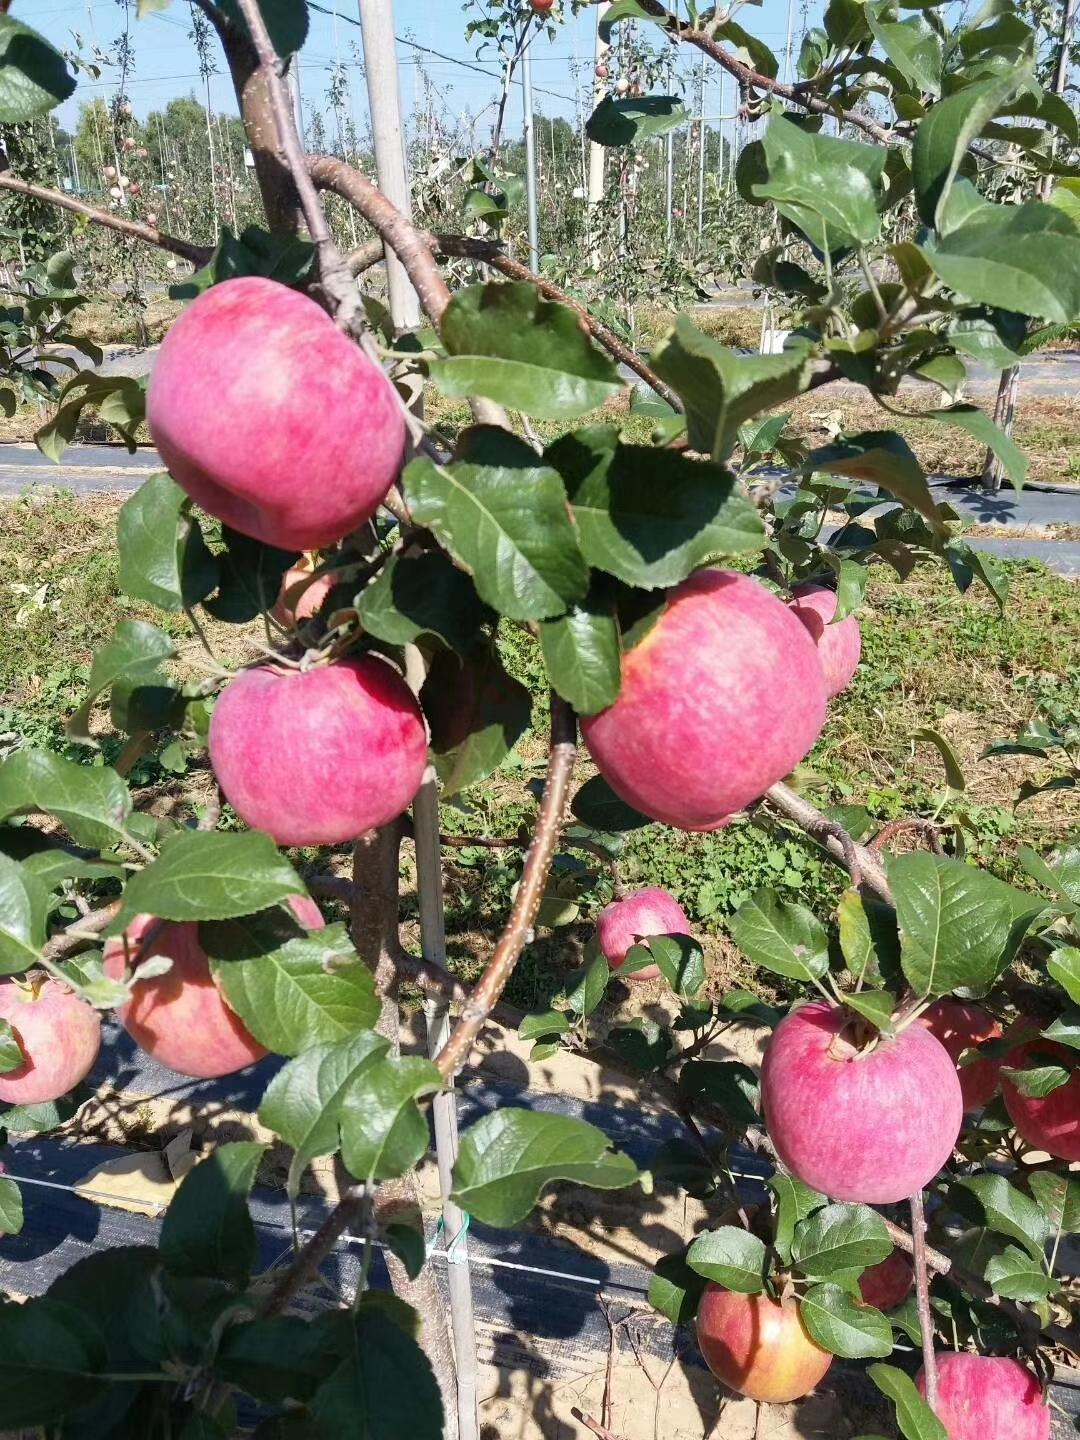apple: (146, 270, 406, 551), (581, 571, 850, 827), (112, 873, 321, 1085), (206, 649, 424, 852), (760, 1006, 961, 1208), (694, 1269, 832, 1401), (914, 1339, 1049, 1435)
